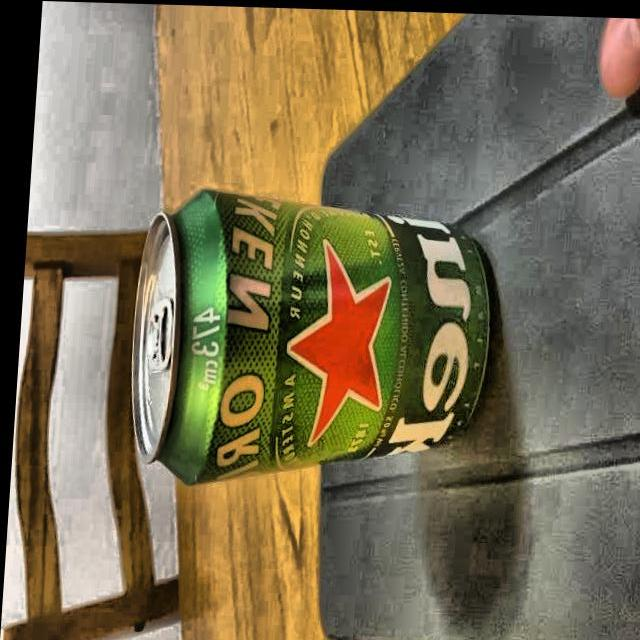Aluminum Can: (109, 184, 507, 493)
